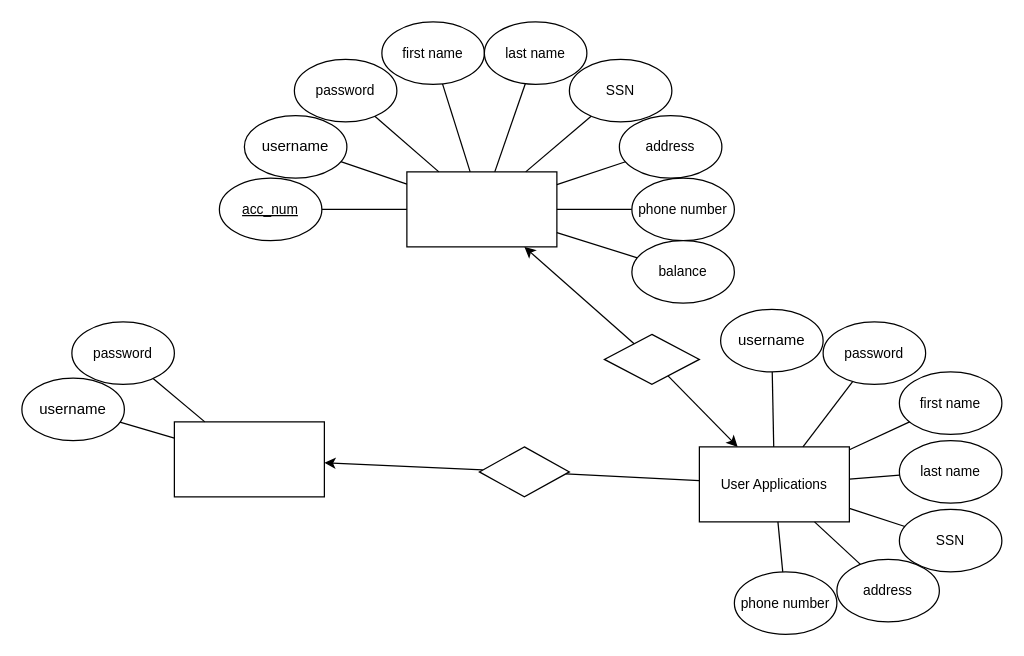
Some shapes in this 1024 by 656 pixel diagram are drawn without their labels. The shapes that lost their labels are listed below. From the top down, each one's centre as x and y in pixels, then its label:
At (481,209): "Users".
At (651,358): "becomes".
At (248,459): "Admin".
At (523,471): "approves".
